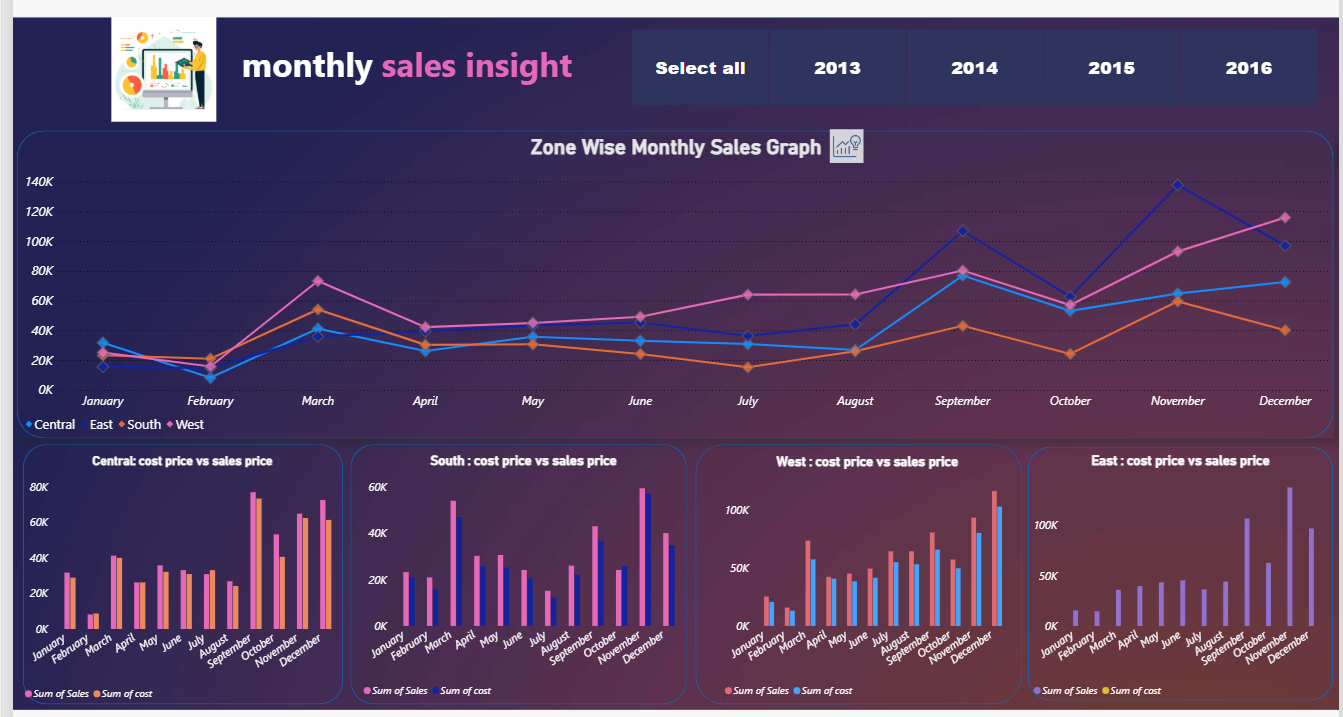

The page's visual inventory and layout, read from the dashboard file:
{"tool":"powerbi","page":{"name":"monthly sales insight ","canvas":[1920,1080],"ordinal":0},"visuals":[{"type":"shape","box":[988.1,653.3,472.3,376.4],"z":0},{"type":"shape","box":[488.6,653.3,486.8,376.4],"z":1000},{"type":"shape","box":[14.5,653.3,463.3,376.4],"z":2000},{"type":"shape","box":[4.9,198.8,1906.2,445.7],"z":3000},{"type":"textbox","box":[195,32.1,750,152.1],"z":4000},{"type":"image","box":[0,34.3,436.4,152.3],"z":5000},{"type":"lineChart","title":"Zone Wise Monthly Sales Graph ","fields":{"Category":["Appendregions.Order Date.Variation.Date Hierarchy.Month"],"Series":["Appendregions.Region"],"Y":["Sum(Appendregions.Sales)"]},"box":[0,190.1,1920.1,466.9],"z":6000},{"type":"clusteredColumnChart","title":"Central:  cost price vs sales price ","fields":{"Category":["Appendregions.Order Date.Variation.Date Hierarchy.Month"],"Y":["Sum(Appendregions.Sales)","Sum(Appendregions.cost)"]},"box":[0,651,491,393.6],"z":7000},{"type":"clusteredColumnChart","title":"South :  cost price vs sales price ","fields":{"Category":["Appendregions.Order Date.Variation.Date Hierarchy.Month"],"Y":["Sum(Appendregions.Sales)","Sum(Appendregions.cost)"]},"box":[490.4,651.5,497.7,389.1],"z":8000},{"type":"clusteredColumnChart","title":"West :  cost price vs sales price ","fields":{"Category":["Appendregions.Order Date.Variation.Date Hierarchy.Month"],"Y":["Sum(Appendregions.Sales)","Sum(Appendregions.cost)"]},"box":[1013.4,653.3,447,387.3],"z":9000},{"type":"clusteredColumnChart","title":"East :  cost price vs sales price ","fields":{"Category":["Appendregions.Order Date.Variation.Date Hierarchy.Month"],"Y":["Sum(Appendregions.Sales)","Sum(Appendregions.cost)"]},"box":[1460.3,652.1,459.7,389.1],"z":10000},{"type":"slicer","fields":{"Values":["Appendregions.Order Date.Variation.Date Hierarchy.Year"]},"box":[876.6,51.3,1031,113.3],"z":11000},{"type":"shape","box":[1469.4,656.9,441.6,367.4],"z":12000},{"type":"image","box":[1106.1,198,202,49],"z":13000}]}

Visuals, with their boxes on the page's 1920x1080 design canvas (x1, y1, x2, y2). These are canvas units, not pixel positions in the 1343x717 screenshot, which may show the page scaled, cropped or inside an application window:
shape: <box>988,653,1460,1030</box>
shape: <box>489,653,975,1030</box>
shape: <box>14,653,478,1030</box>
shape: <box>5,199,1911,644</box>
textbox: <box>195,32,945,184</box>
image: <box>0,34,436,187</box>
"Zone Wise Monthly Sales Graph " lineChart: <box>0,190,1920,657</box>
"Central:  cost price vs sales price " clusteredColumnChart: <box>0,651,491,1045</box>
"South :  cost price vs sales price " clusteredColumnChart: <box>490,652,988,1041</box>
"West :  cost price vs sales price " clusteredColumnChart: <box>1013,653,1460,1041</box>
"East :  cost price vs sales price " clusteredColumnChart: <box>1460,652,1920,1041</box>
slicer - Appendregions.Order Date.Variation.Date Hierarchy.Year: <box>877,51,1908,165</box>
shape: <box>1469,657,1911,1024</box>
image: <box>1106,198,1308,247</box>
